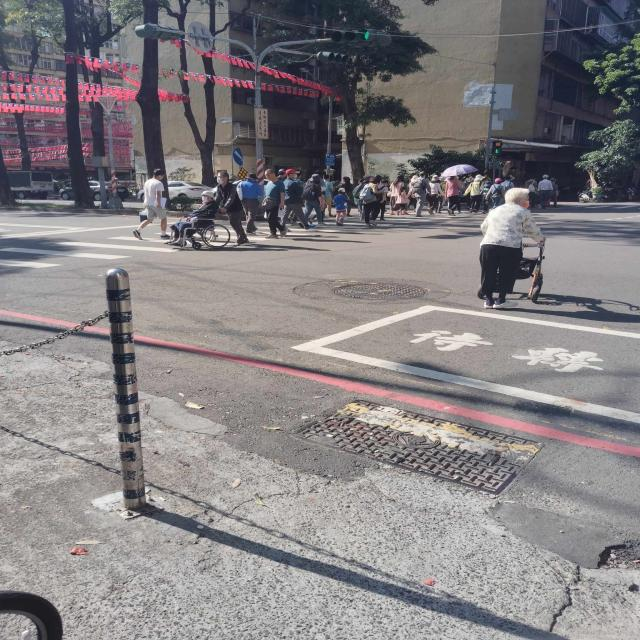person: (480, 188, 546, 309), (168, 190, 219, 246), (133, 169, 169, 239), (216, 171, 249, 244), (281, 169, 315, 228), (262, 169, 287, 238), (237, 174, 264, 233), (302, 174, 325, 226), (359, 175, 380, 226), (410, 172, 430, 218), (465, 175, 485, 212), (390, 175, 408, 214), (337, 176, 354, 216), (332, 188, 349, 226), (445, 176, 462, 213), (427, 175, 442, 215), (485, 178, 505, 208), (320, 174, 334, 216), (377, 176, 390, 221), (538, 175, 554, 210), (525, 178, 538, 207), (550, 178, 559, 207), (501, 175, 515, 191), (481, 179, 493, 196), (481, 199, 490, 214), (277, 169, 286, 180), (543, 200, 548, 208), (322, 210, 325, 217), (543, 175, 548, 179)
zebra crossing: (2, 209, 491, 272)
